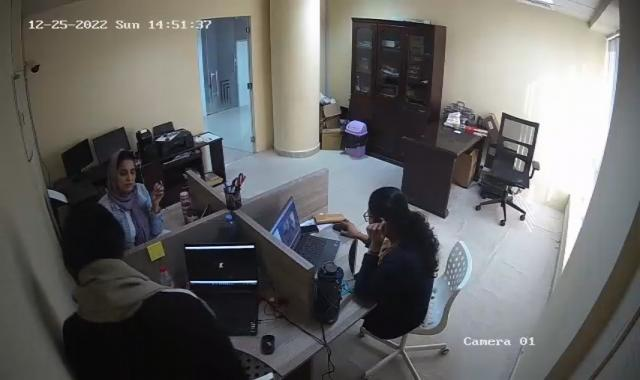no_hairnet: (62, 203, 121, 265), (366, 186, 412, 221), (108, 146, 138, 196)
